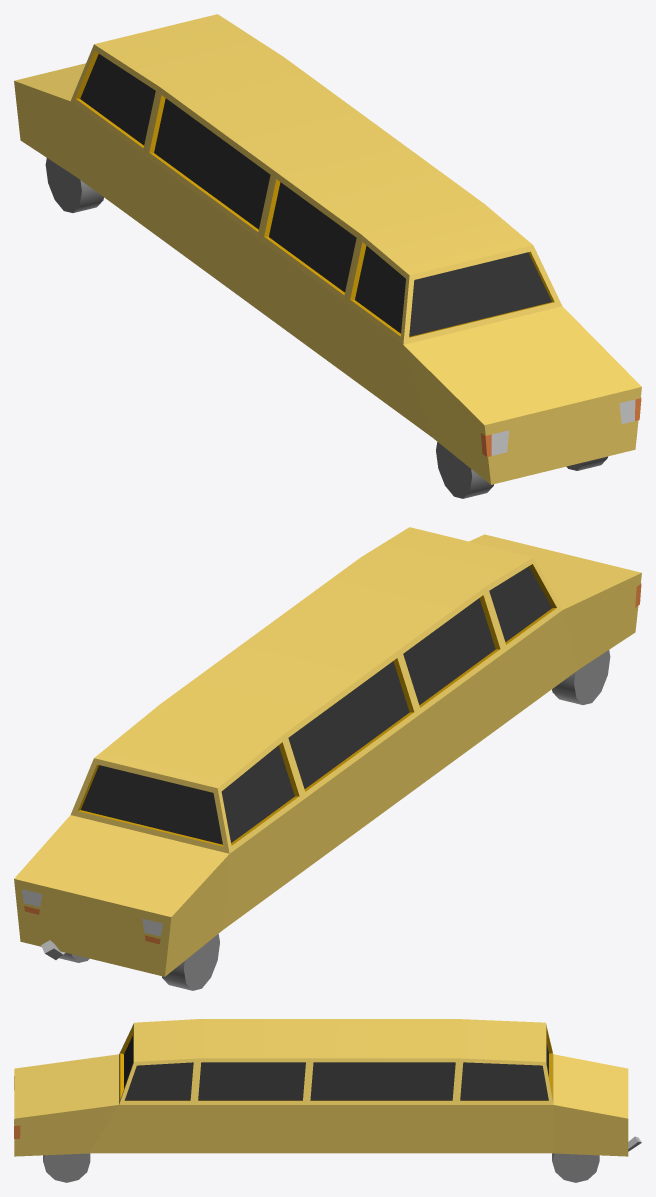
The model's file is limo_05.fbx.
The picture shows the model from 3 angles, top to bottom: view 1: azimuth 30°, elevation 25°; view 2: azimuth 150°, elevation 25°; view 3: azimuth 270°, elevation 25°; orthographic projection. The views are drawn at different scales.
Parts seen in each view (by area): view 1: limo_05; view 2: limo_05; view 3: limo_05.
Part boxes in pixels (bbox=[...]): limo_05: bbox=[14, 14, 641, 498]; limo_05: bbox=[14, 527, 641, 990]; limo_05: bbox=[14, 1019, 641, 1182].
Size of the model in its own units: 1.6 by 1.8 by 8.39.
